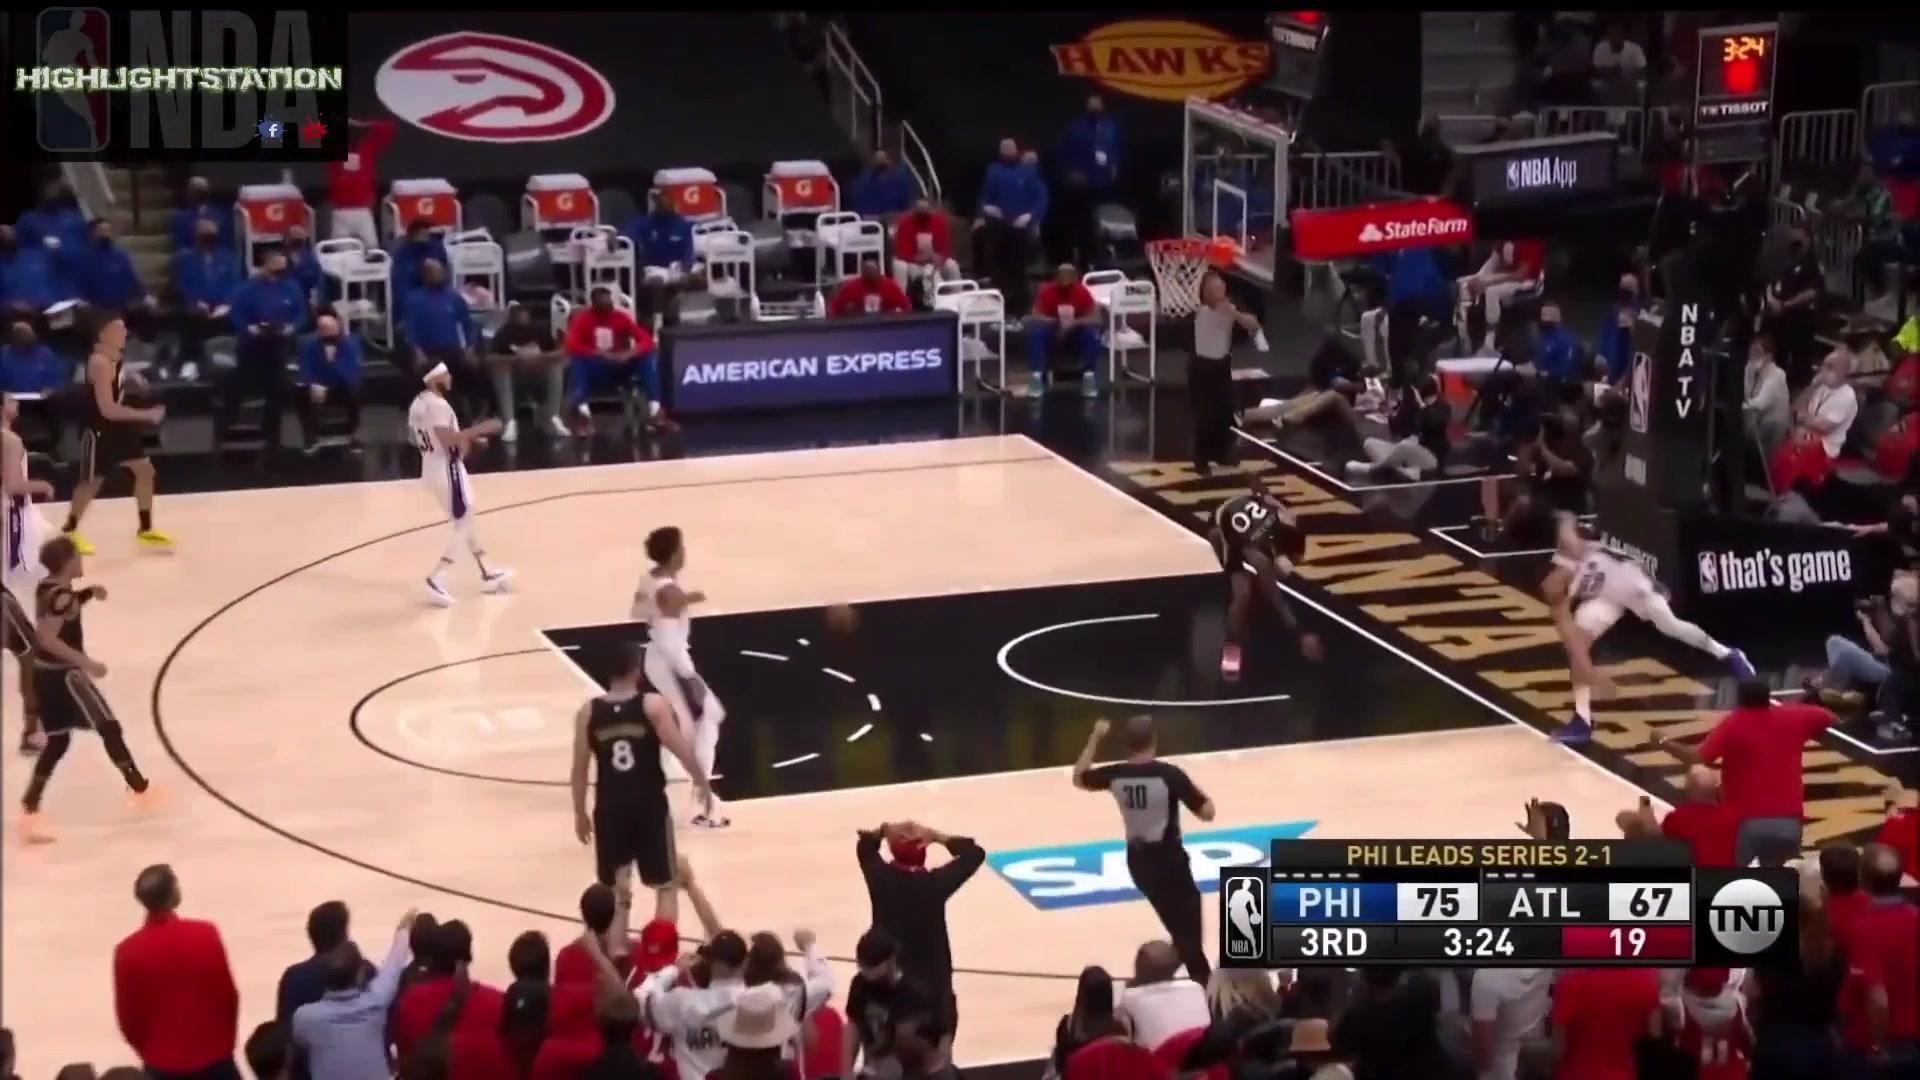no_foul: (555, 517, 754, 887)
